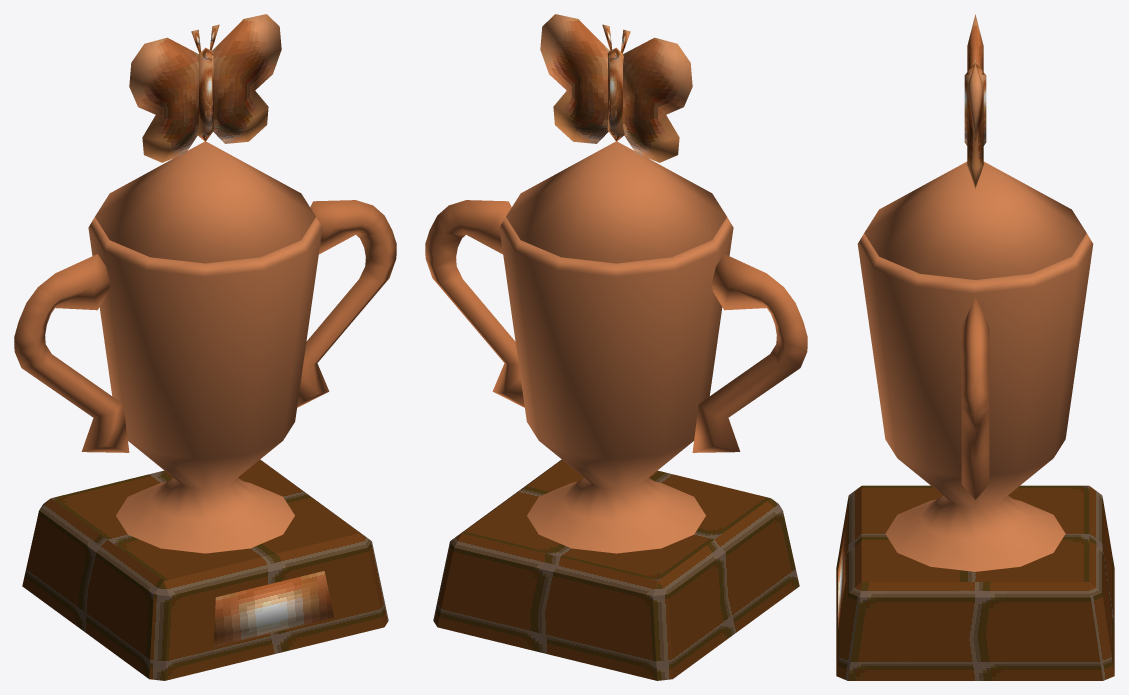
File: int_oth_trophy_iC.dae
3 views of the same model, side by side, from view 1: azimuth 30°, elevation 25°; view 2: azimuth 150°, elevation 25°; view 3: azimuth 270°, elevation 25° (orthographic).
Visible parts, largest first — view 1: int_oth_trophy_iC; view 2: int_oth_trophy_iC; view 3: int_oth_trophy_iC.
Boxes of the visible parts, x1,y1,x2,y2 form: int_oth_trophy_iC: (14, 14, 396, 680); int_oth_trophy_iC: (425, 14, 807, 680); int_oth_trophy_iC: (836, 14, 1114, 680).
Bounding box in the file's own units: 25.56 × 36.74 × 16.
Materials: 2 (2 with a texture image).
